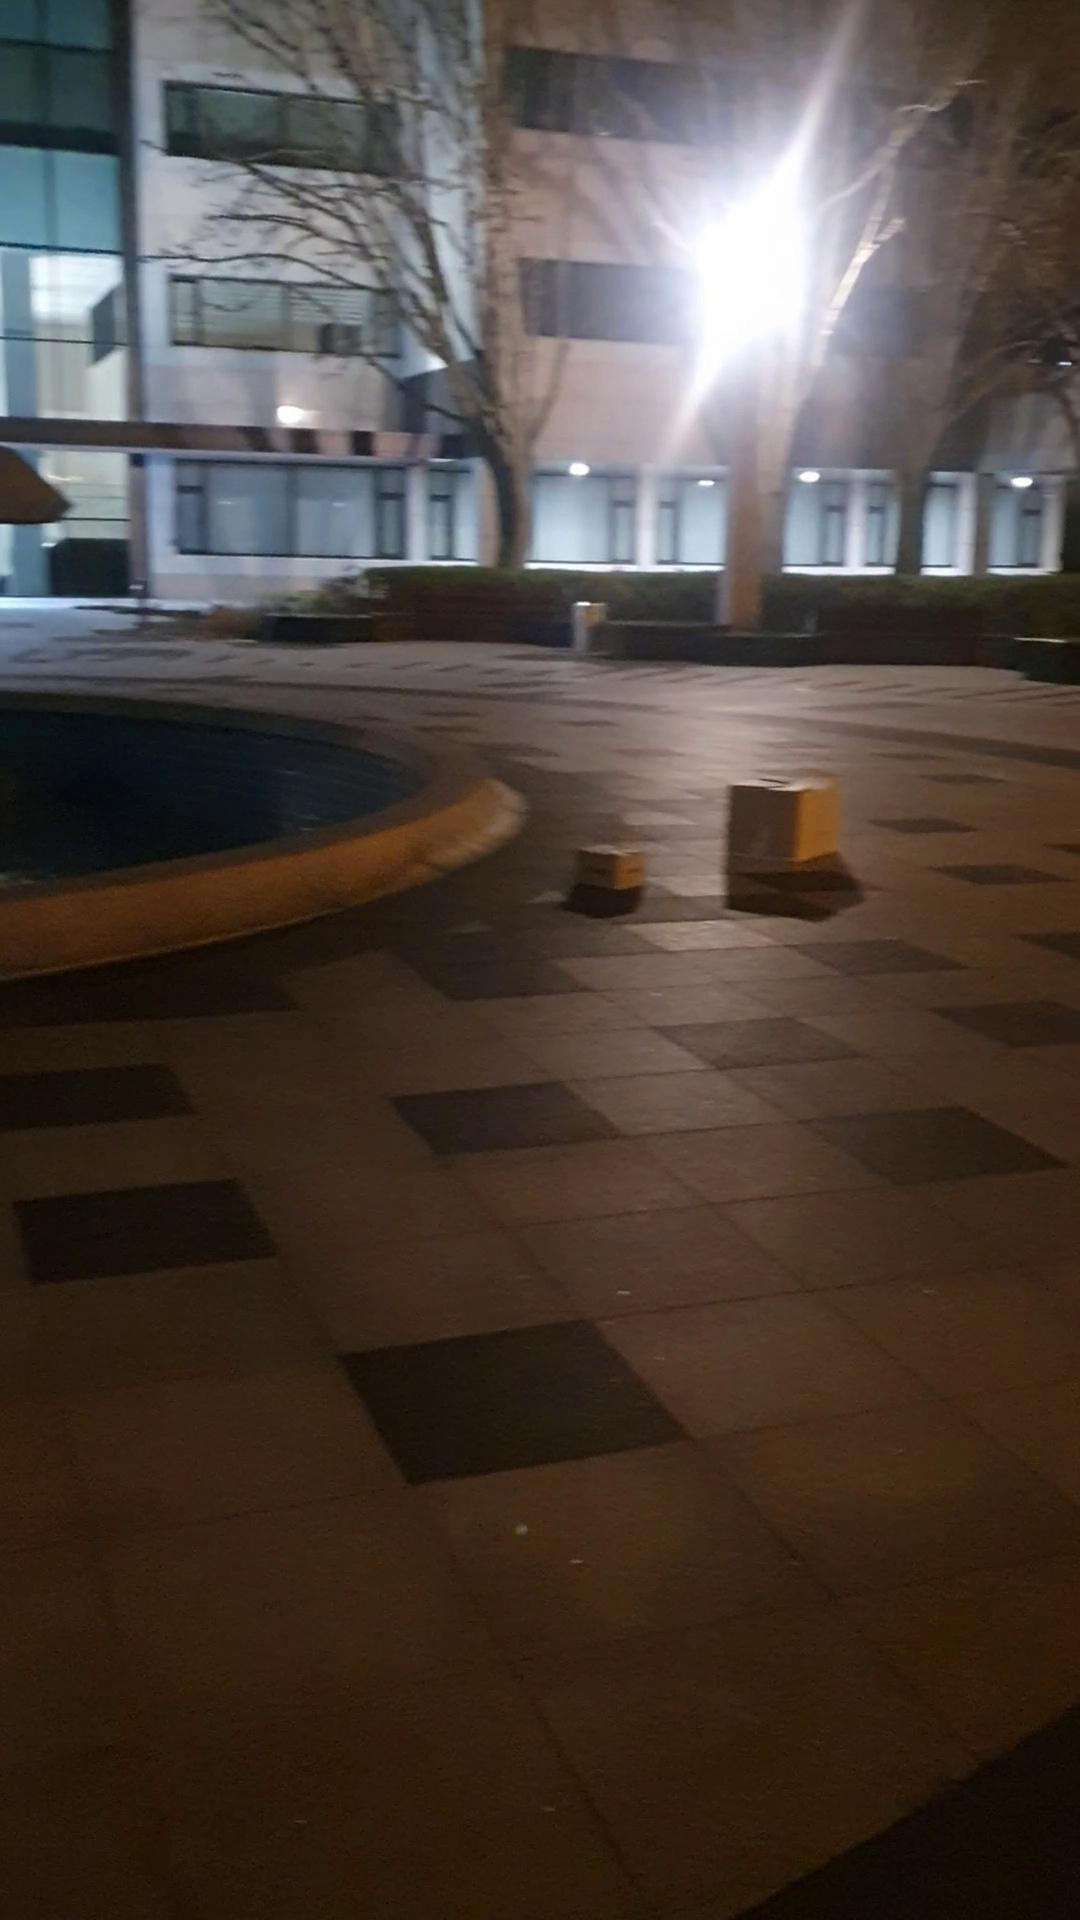Box: (717, 764, 847, 898), (571, 825, 655, 902)
